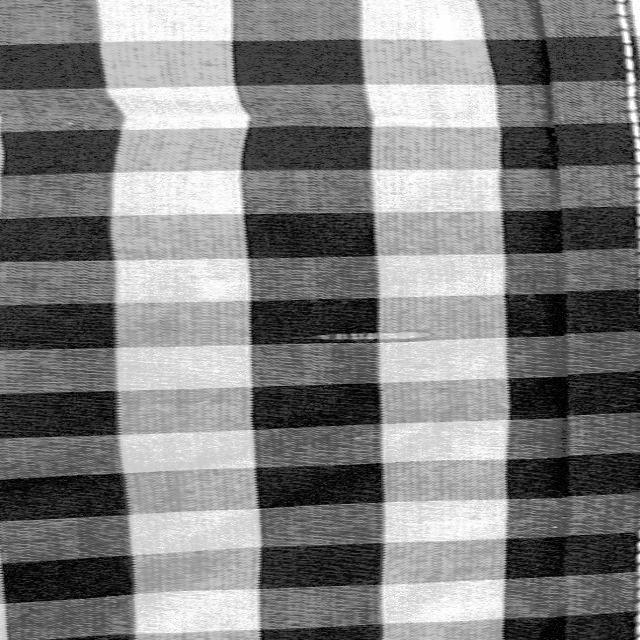Foreign_yarn: (306, 312, 457, 352)
